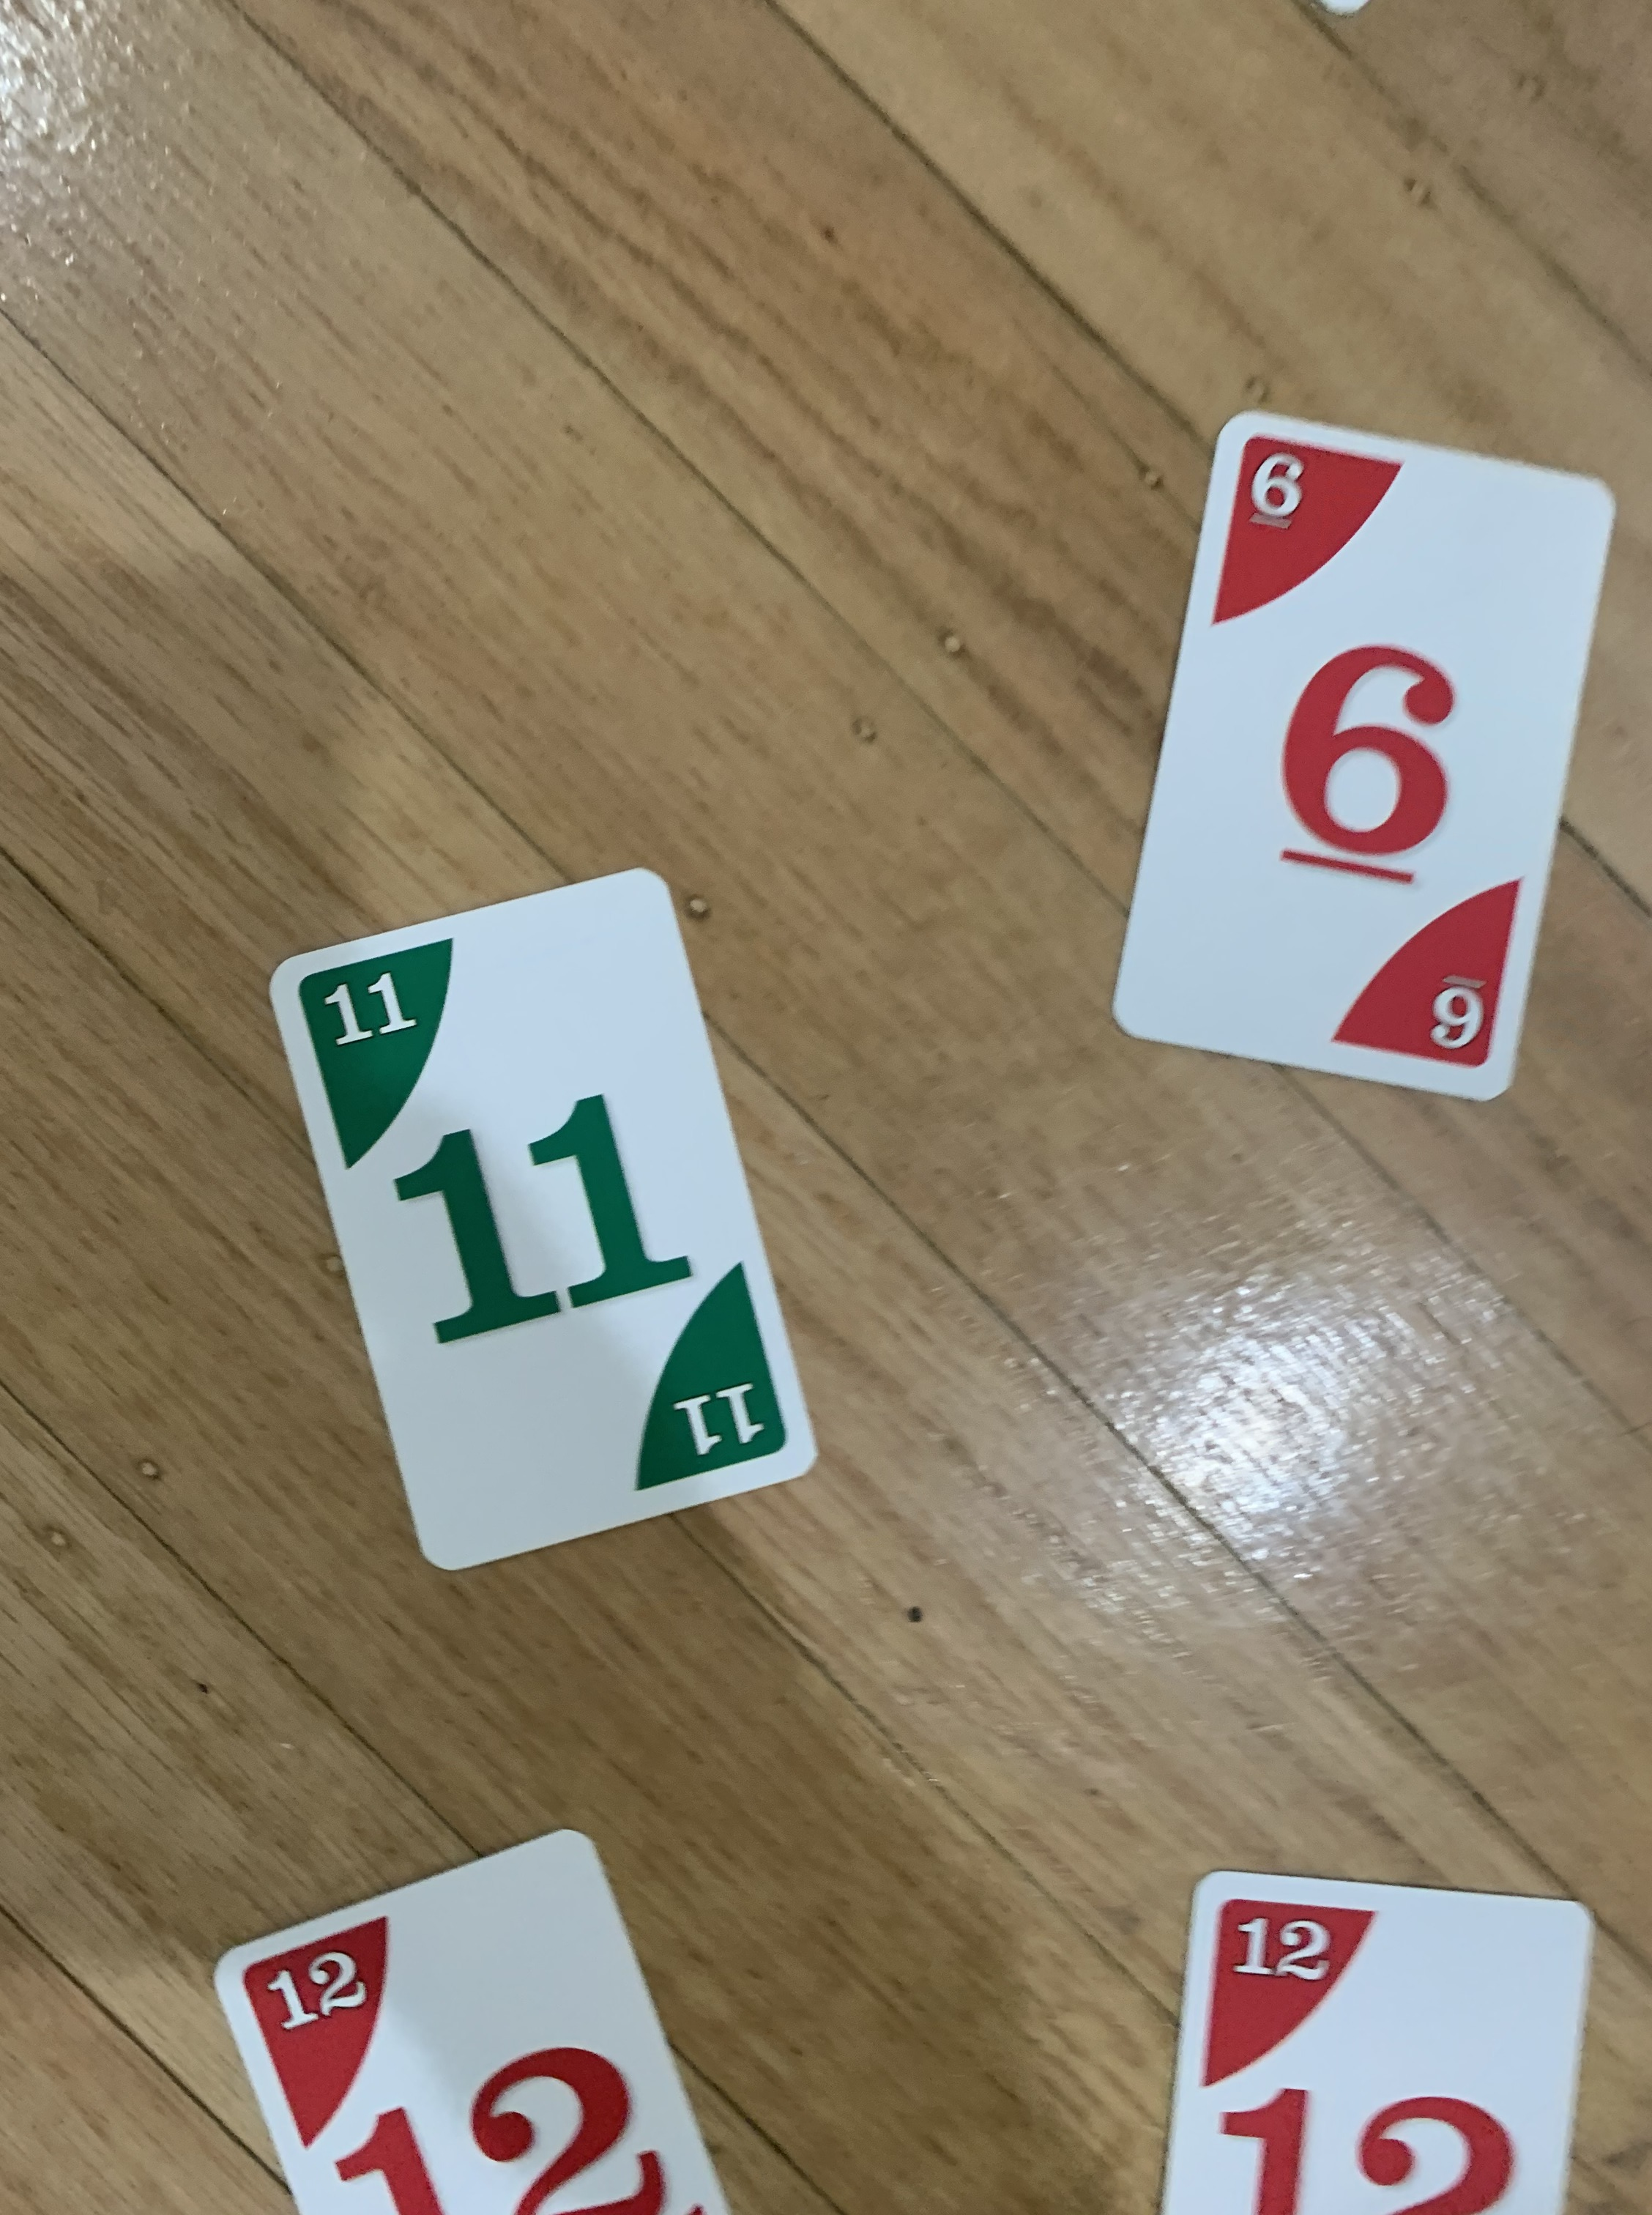eleven: (253, 859, 831, 1600)
six: (1105, 401, 1626, 1118)
